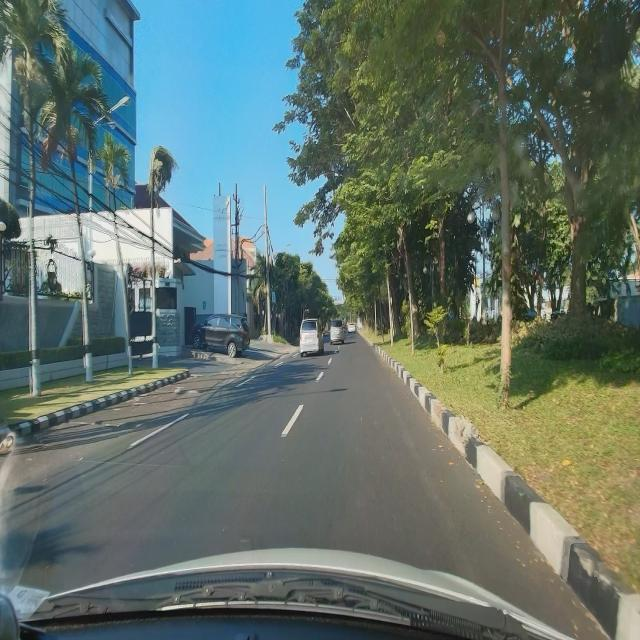car: (299, 316, 325, 359), (329, 318, 344, 346)
